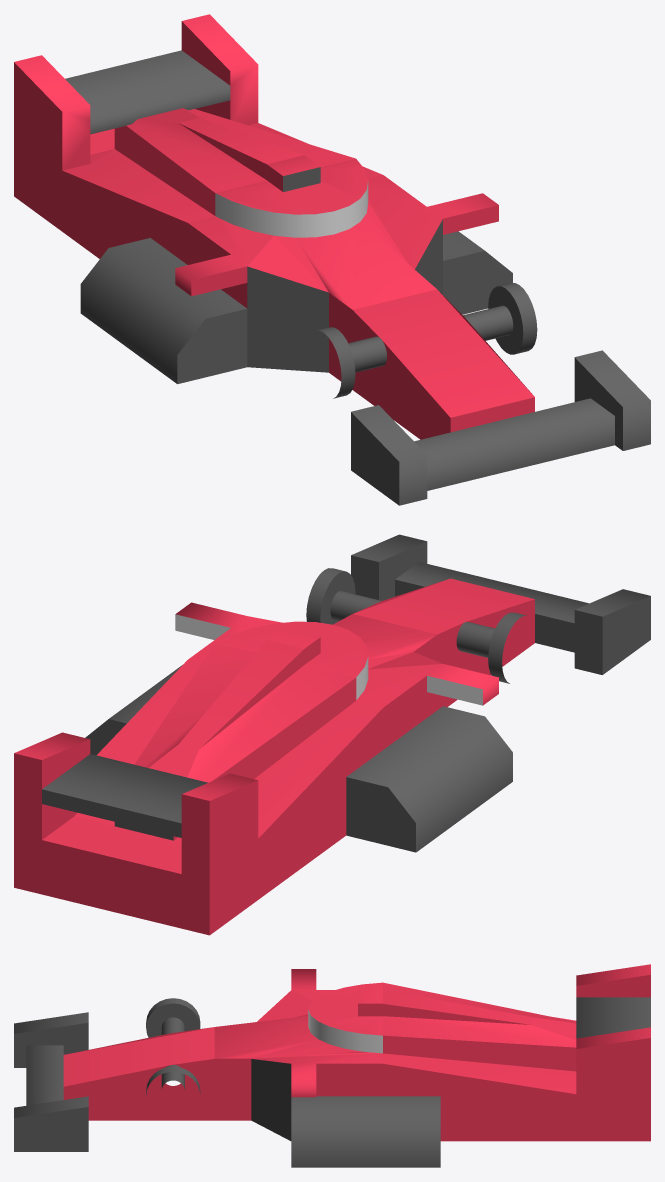
File: car-race.glb
3 renders of one model, top to bottom at view 1: azimuth 30°, elevation 25°; view 2: azimuth 150°, elevation 25°; view 3: azimuth 270°, elevation 25°, orthographic. The views are drawn at different scales.
Visible parts, largest first — view 1: body; view 2: body; view 3: body.
Part boxes in pixels (bbox=[...]): body: bbox=[14, 14, 650, 505]; body: bbox=[14, 534, 650, 935]; body: bbox=[14, 964, 650, 1167].
Bounding box in the file's own units: 2.04 × 0.8135 × 4.35.
